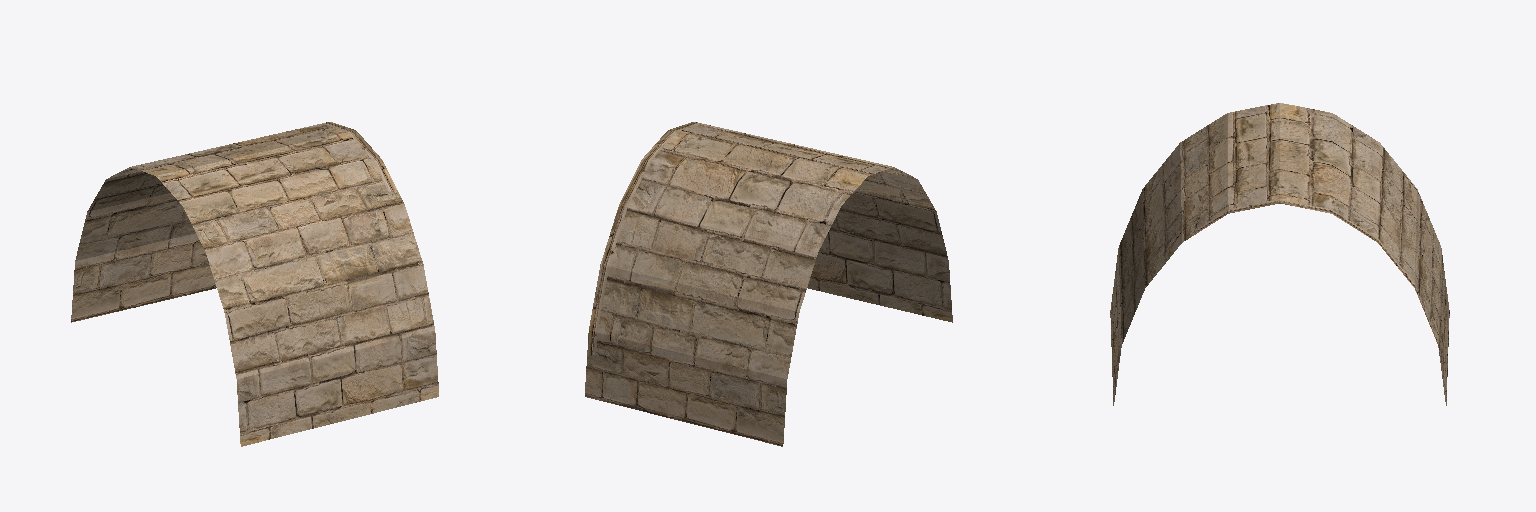
The picture shows the model from 3 angles: view 1: azimuth 30°, elevation 25°; view 2: azimuth 150°, elevation 25°; view 3: azimuth 270°, elevation 25°; orthographic projection.
Parts seen in each view (by area): view 1: pasted__pasted__pTorus1 pasted__group7 group8; view 2: pasted__pasted__pTorus1 pasted__group7 group8; view 3: pasted__pasted__pTorus1 pasted__group7 group8.
Boxes of the visible parts, x1=… form: pasted__pasted__pTorus1 pasted__group7 group8: x1=71, y1=122, x2=438, y2=446; pasted__pasted__pTorus1 pasted__group7 group8: x1=585, y1=122, x2=952, y2=446; pasted__pasted__pTorus1 pasted__group7 group8: x1=1110, y1=103, x2=1449, y2=405.
Size of the model in its own units: 17.99 by 17.91 by 26.38.
2 materials, 1 textured.